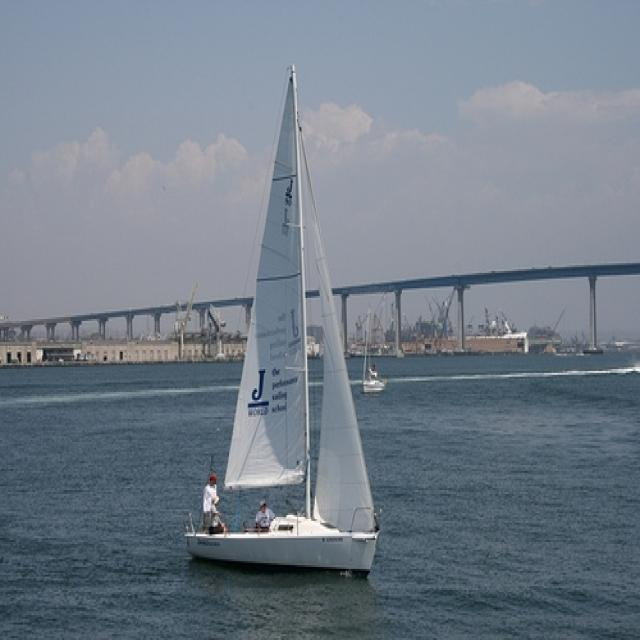Ship: (170, 65, 383, 570)
